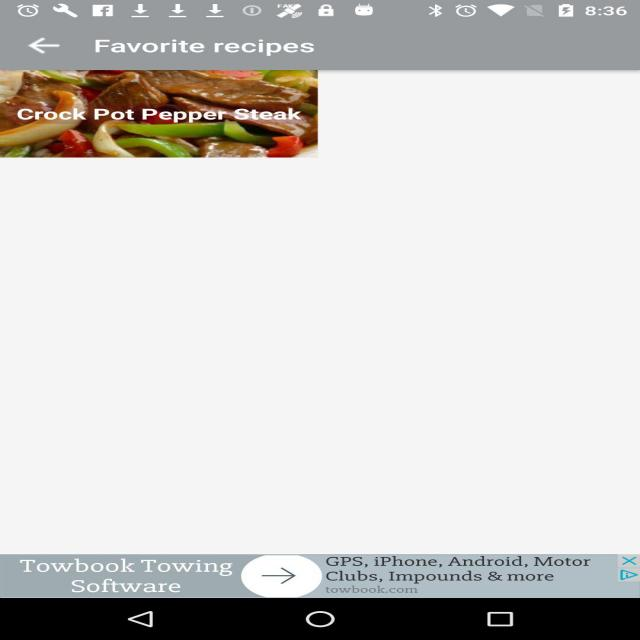button: (15, 27, 73, 66)
image: (0, 73, 327, 163)
text: (84, 31, 342, 58)
